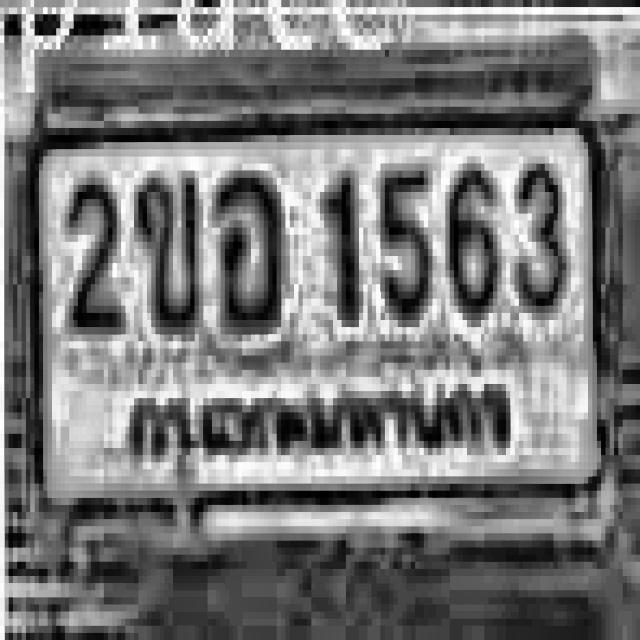license-plate: (24, 94, 625, 553)
